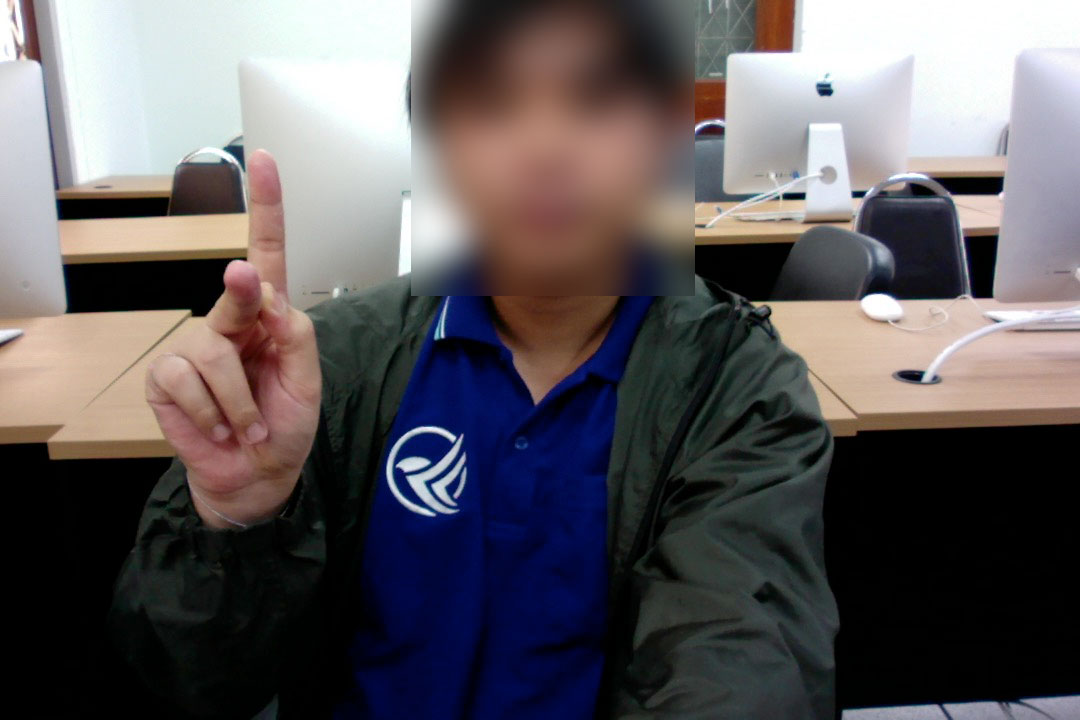ko: (137, 139, 331, 530)
